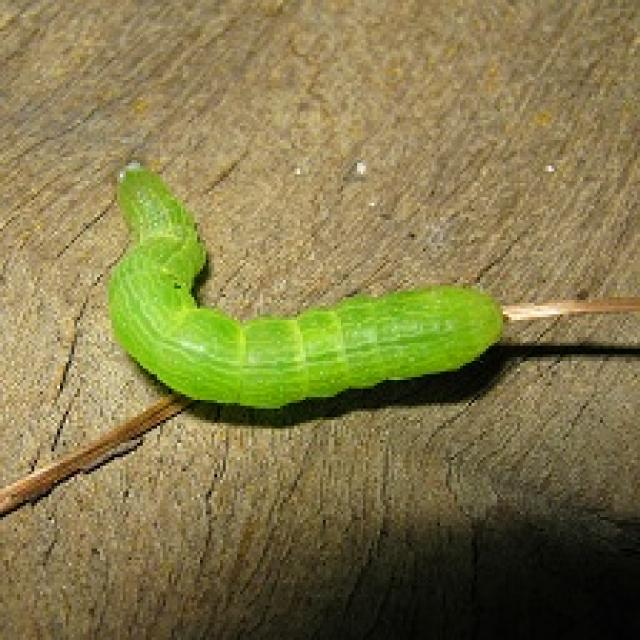Cabbage-worm: (91, 147, 522, 413)
